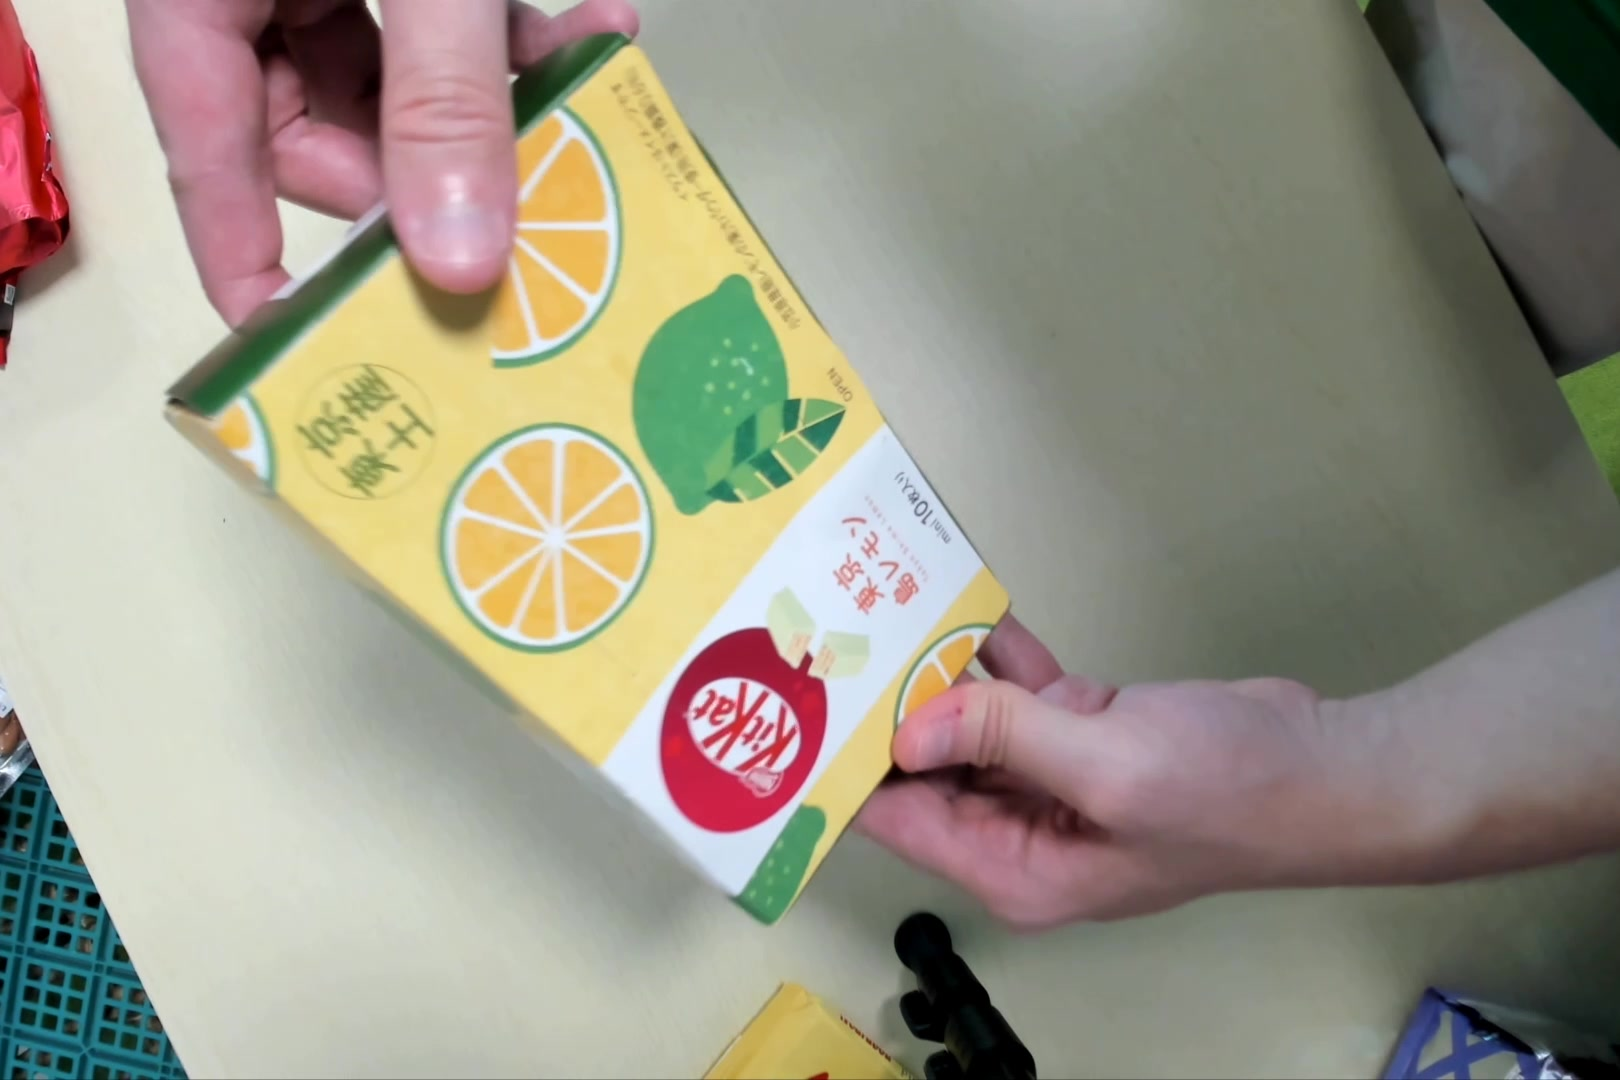SweetsChocolatesOthers_100-199g_NonHalal_NonHealthy: (159, 37, 1019, 931)
